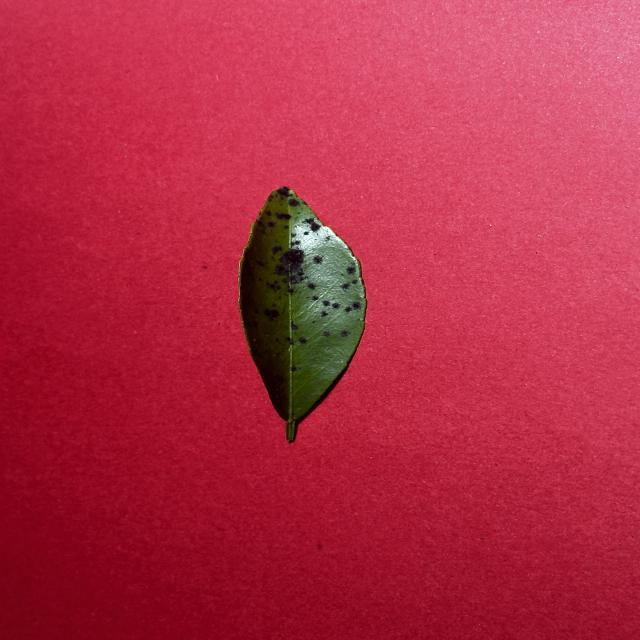sooty_mold: (240, 187, 367, 440)
